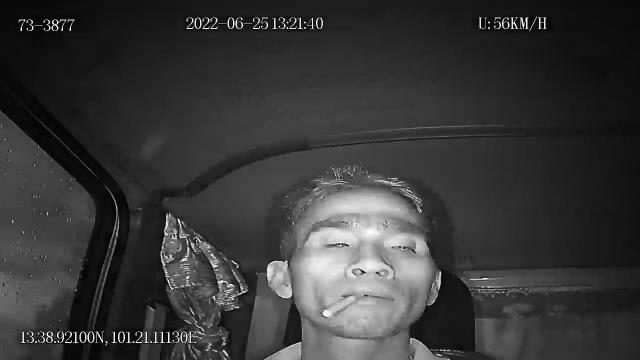SafeDriving: (379, 232, 426, 260), (315, 230, 359, 254)
Smoking: (322, 294, 362, 318)
